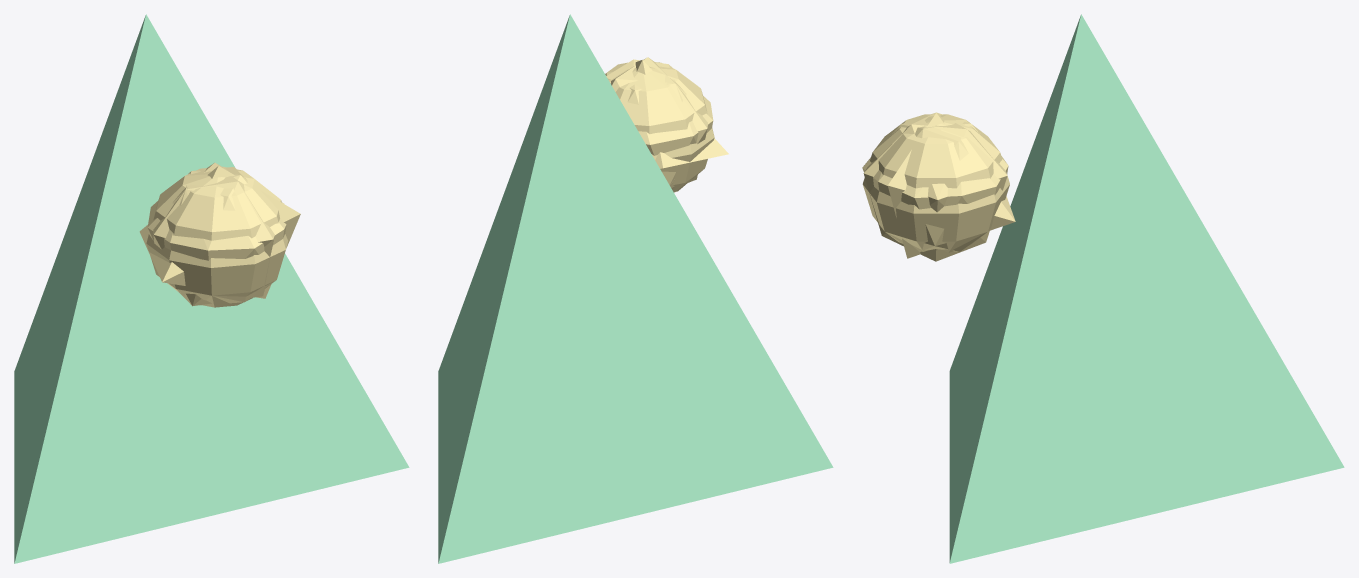
File: SM_Shooter.fbx
3 views of the same model, side by side, from view 1: azimuth 30°, elevation 25°; view 2: azimuth 150°, elevation 25°; view 3: azimuth 270°, elevation 25° (orthographic).
Visible parts, largest first — view 1: LOD1_SM_Shooter, SM_Shooter, LOD2_SM_Shooter, LOD3_SM_Shooter; view 2: LOD1_SM_Shooter, SM_Shooter, LOD2_SM_Shooter, LOD3_SM_Shooter; view 3: LOD1_SM_Shooter, SM_Shooter, LOD2_SM_Shooter, LOD3_SM_Shooter.
Part boxes in pixels (box(x1,y1,x2,y2)): LOD1_SM_Shooter: box(14, 14, 409, 563); SM_Shooter: box(146, 166, 287, 307); LOD2_SM_Shooter: box(153, 162, 284, 306); LOD3_SM_Shooter: box(139, 166, 300, 298); LOD1_SM_Shooter: box(438, 14, 833, 563); SM_Shooter: box(605, 62, 714, 192); LOD2_SM_Shooter: box(611, 57, 707, 188); LOD3_SM_Shooter: box(635, 60, 728, 168); LOD1_SM_Shooter: box(862, 14, 1344, 563); SM_Shooter: box(862, 114, 1009, 252); LOD2_SM_Shooter: box(863, 112, 1007, 261); LOD3_SM_Shooter: box(887, 113, 1015, 258).
Size of the model in its own units: 0.3118 by 0.342 by 0.3296.
